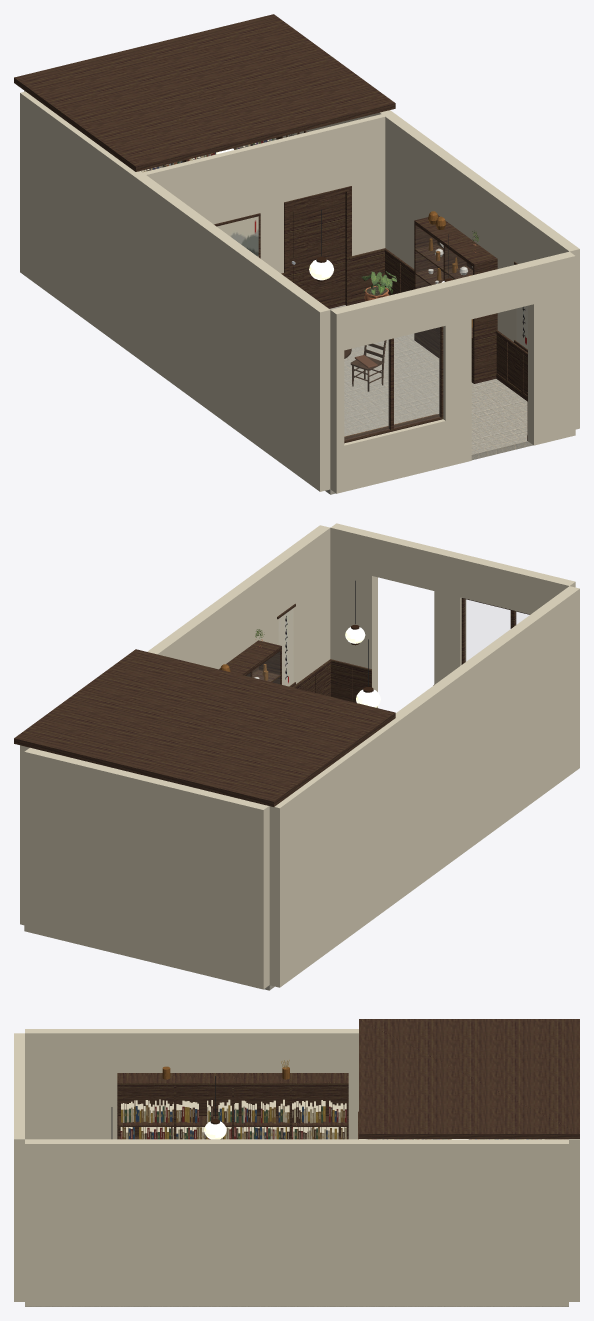
File: tz_limao_interior.glb
3 views of the same model, one above another, from view 1: azimuth 30°, elevation 25°; view 2: azimuth 150°, elevation 25°; view 3: azimuth 270°, elevation 25° (orthographic). The views are drawn at different scales.
Parts seen in each view (by area): view 1: WALL_W, STUDY_LID_wood_d, WALL_S, PART_wall, WALL_E, S_floor, S_wood_d, STUDY_DOOR_wood_d, PART_wood_d, WALL_Sfix_wood_d, PART_packs, tz_limao_interior_inst (+1 smaller); view 2: WALL_W, WALL_N, STUDY_LID_wood_d, WALL_S, WALL_E, S_wood_d, S_packs, S_light; view 3: WALL_E, STUDY_LID_wood_d, WALL_W, S_wood_d, S_packs, WALL_S, S_paper, WALL_N, S_floor.
Boxes of the visible parts, box(x1,y1,x2,y2) form: WALL_W: box(20, 91, 330, 491); STUDY_LID_wood_d: box(14, 14, 395, 171); WALL_S: box(330, 251, 575, 493); PART_wall: box(143, 114, 385, 273); WALL_E: box(283, 110, 579, 429); S_floor: box(325, 305, 532, 494); S_wood_d: box(344, 215, 527, 440); STUDY_DOOR_wood_d: box(289, 192, 345, 308); PART_wood_d: box(214, 186, 384, 305); WALL_Sfix_wood_d: box(344, 326, 443, 443); PART_packs: box(217, 216, 258, 256); tz_limao_interior_inst: box(350, 340, 386, 391); WALL_W: box(269, 586, 579, 987); WALL_N: box(24, 747, 269, 989); STUDY_LID_wood_d: box(14, 649, 395, 806); WALL_S: box(330, 523, 575, 707); WALL_E: box(20, 525, 330, 925); S_wood_d: box(219, 603, 434, 702); S_packs: box(278, 608, 293, 686); S_light: box(345, 627, 380, 707); WALL_E: box(25, 1139, 568, 1306); STUDY_LID_wood_d: box(359, 1019, 579, 1138); WALL_W: box(25, 1029, 544, 1139); S_wood_d: box(117, 1073, 348, 1139); S_packs: box(120, 1105, 346, 1139); WALL_S: box(14, 1033, 24, 1301); S_paper: box(120, 1099, 346, 1133); WALL_N: box(569, 1139, 579, 1301); S_floor: box(25, 1306, 568, 1306).
Bounding box in the file's own units: 5 × 3.6 × 10.4.
22 materials, 18 textured.
